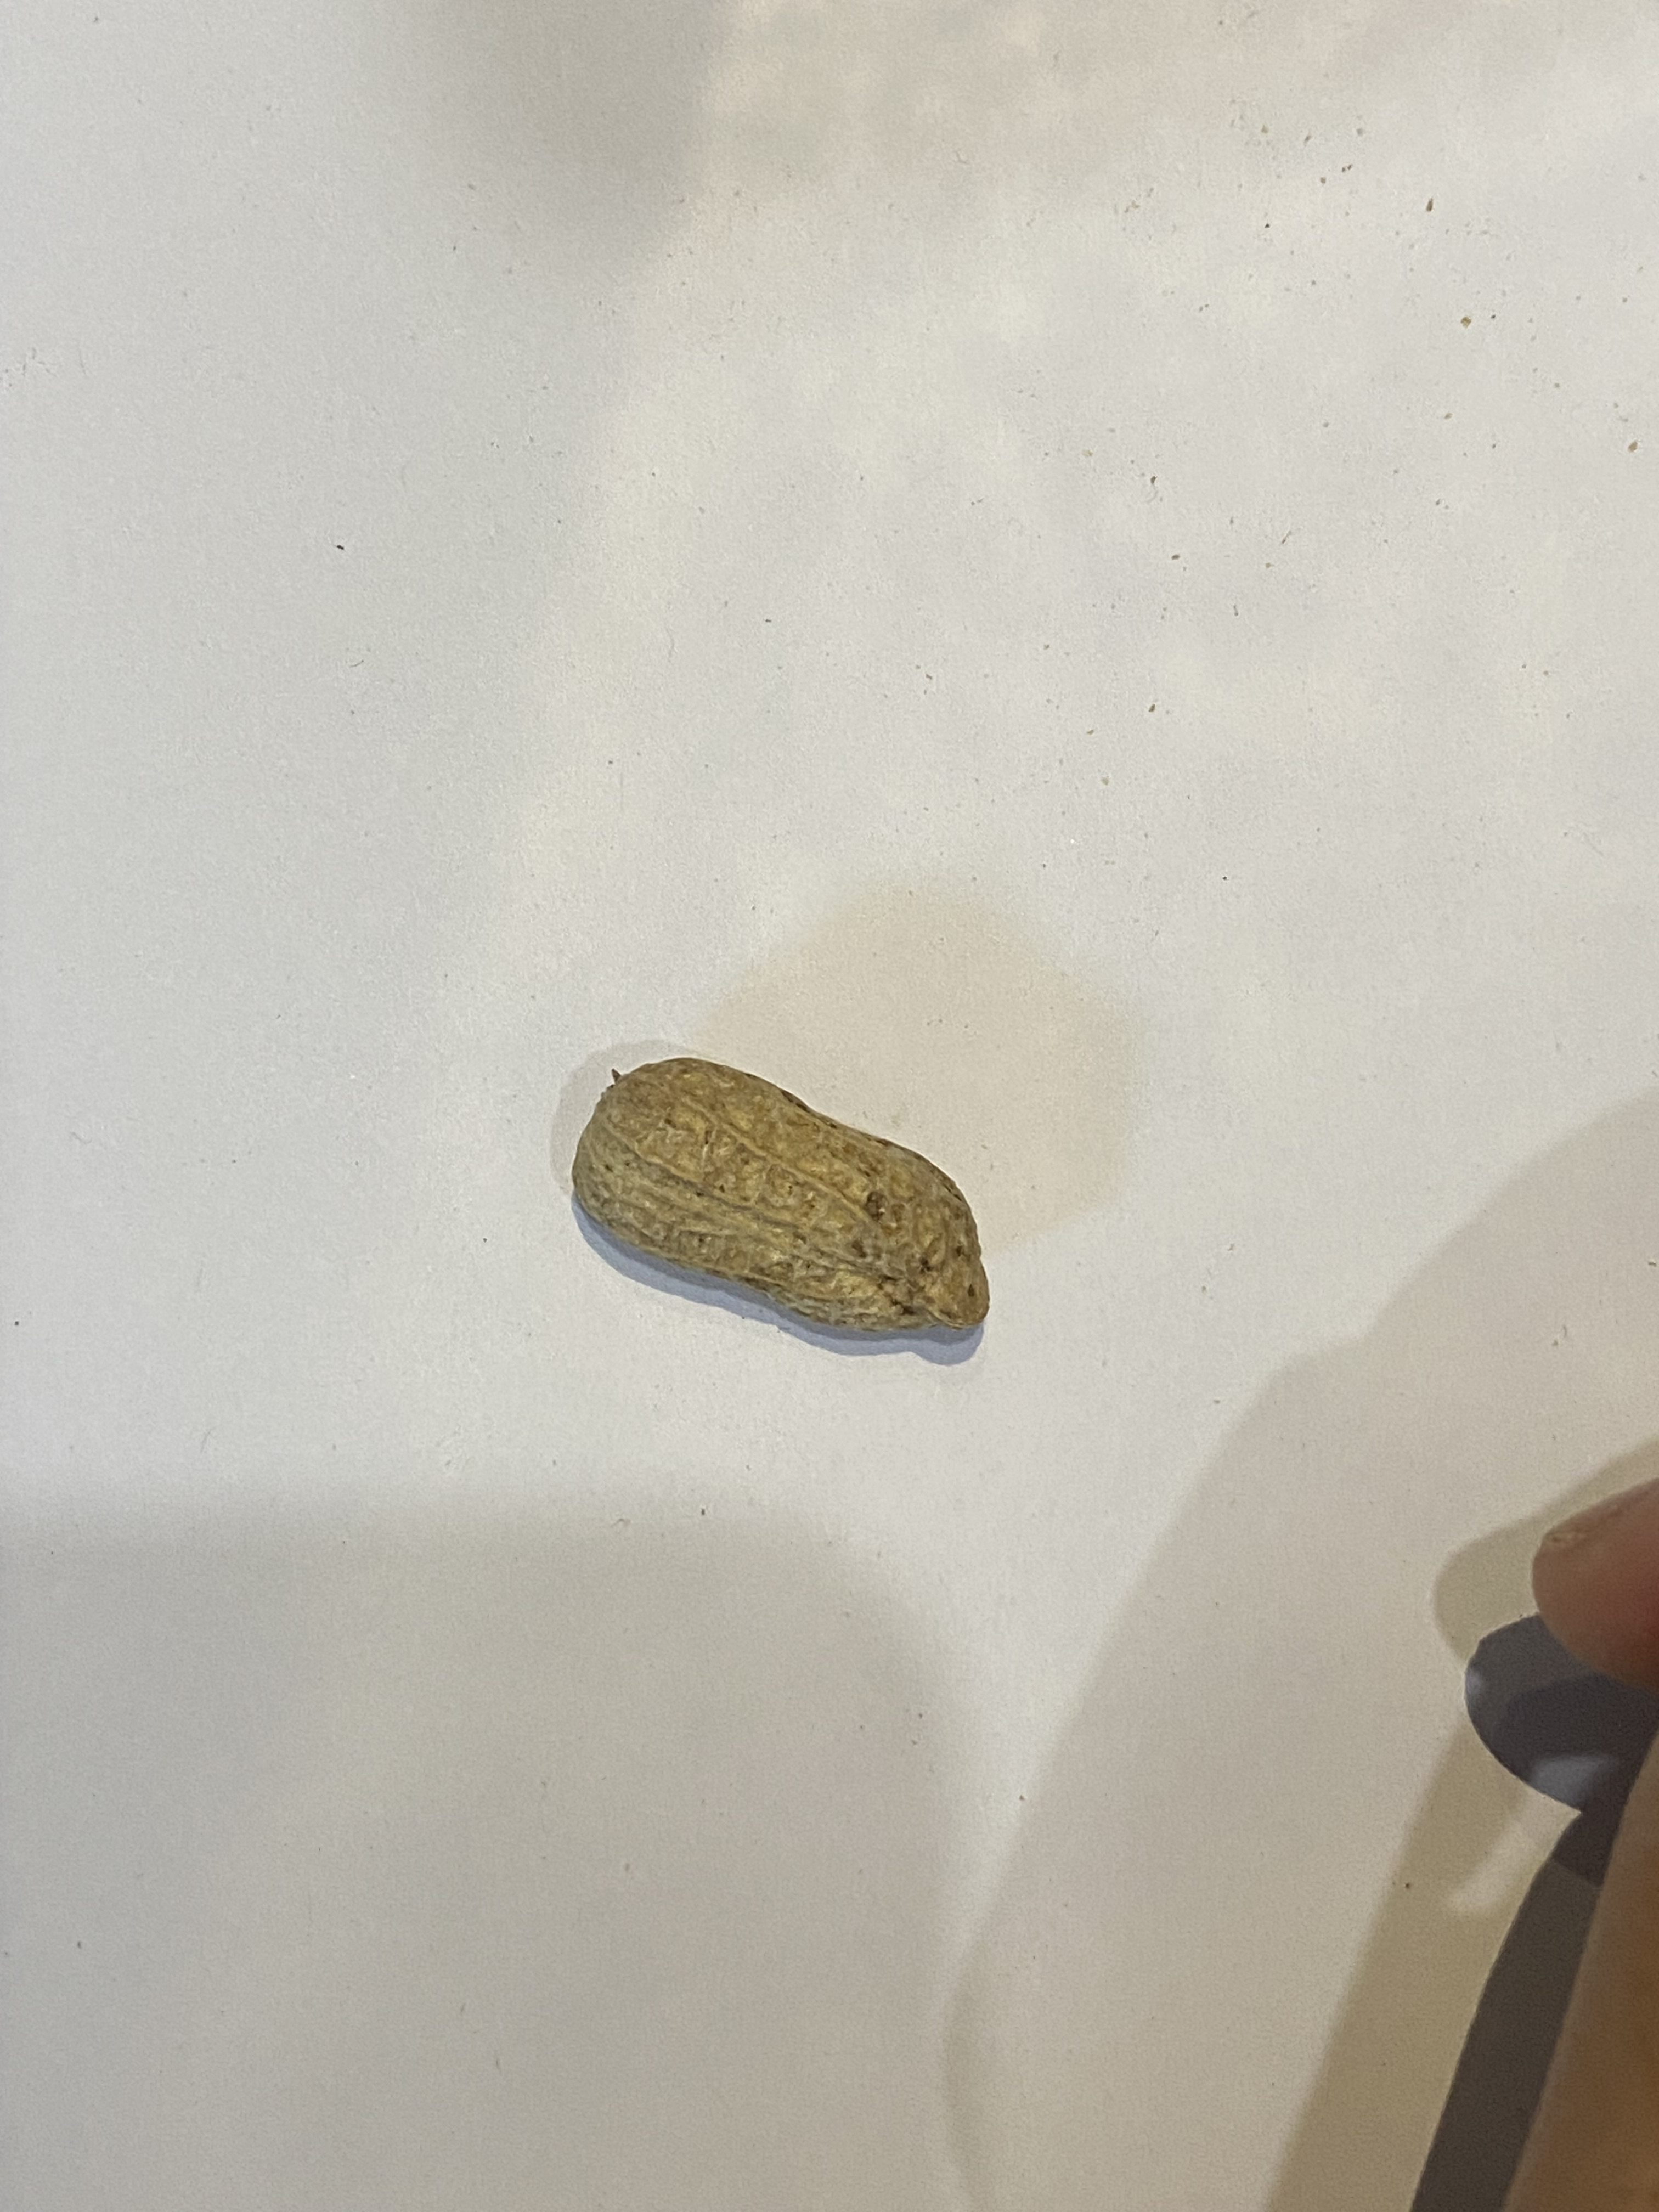kacang2: (559, 1035, 1002, 1350)
